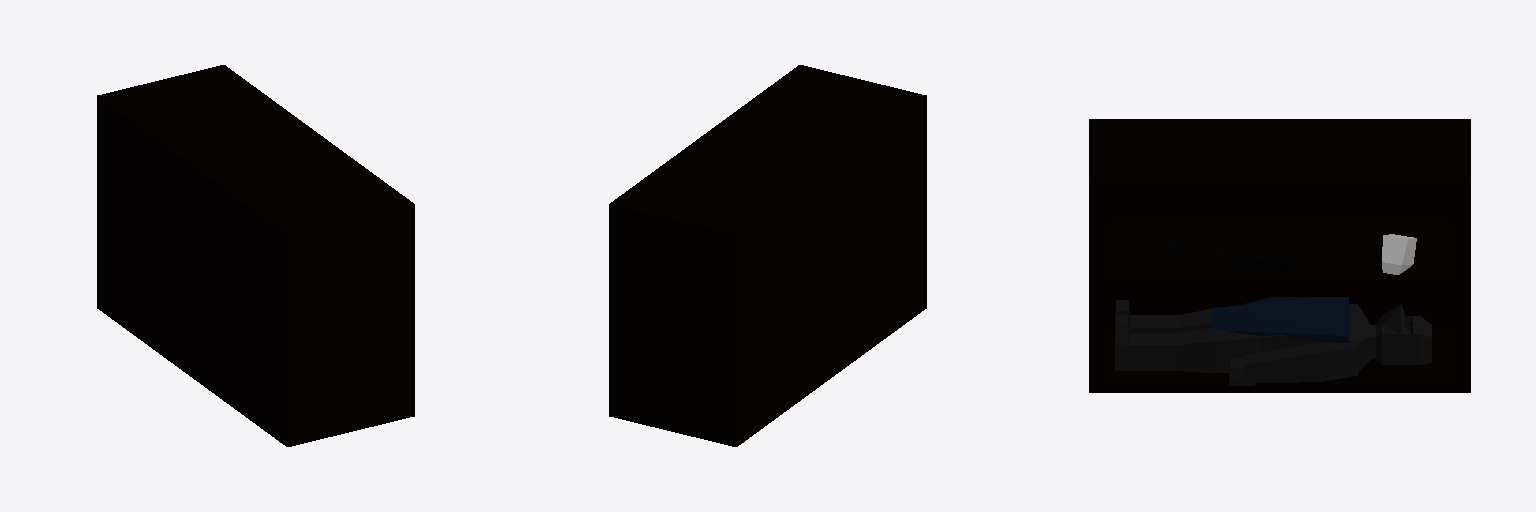
Rendered from catacomb.obj.
The picture shows the model from 3 angles: view 1: azimuth 30°, elevation 25°; view 2: azimuth 150°, elevation 25°; view 3: azimuth 270°, elevation 25°; orthographic projection.
Parts seen in each view (by area): view 1: Cube_Cube.001; view 2: Cube_Cube.001; view 3: Cube_Cube.001, Cube.001_Cube.002, Cube.002_Cube.003, Cube.003_Cube.004, Cube.004_Cube.005.
Boxes of the visible parts, x1=… form: Cube_Cube.001: x1=97, y1=65, x2=414, y2=446; Cube_Cube.001: x1=609, y1=65, x2=926, y2=446; Cube_Cube.001: x1=1089, y1=119, x2=1470, y2=392; Cube.001_Cube.002: x1=1115, y1=300, x2=1431, y2=385; Cube.002_Cube.003: x1=1211, y1=297, x2=1348, y2=342; Cube.003_Cube.004: x1=1123, y1=235, x2=1302, y2=273; Cube.004_Cube.005: x1=1382, y1=234, x2=1416, y2=274.
Bounding box in the file's own units: 2.12 × 3.38 × 5.49.